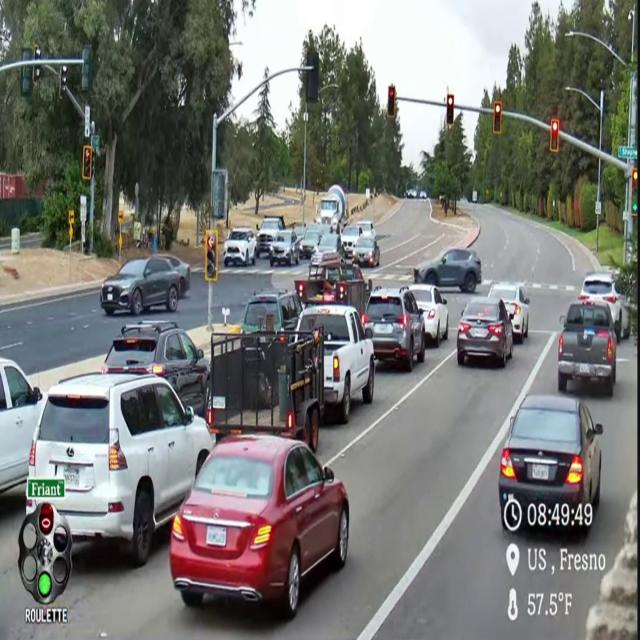car: (26, 374, 215, 566), (169, 435, 349, 619), (499, 395, 602, 532), (102, 321, 210, 415), (0, 358, 43, 493), (362, 287, 426, 371), (100, 256, 180, 316), (457, 297, 513, 367), (579, 272, 631, 340), (414, 248, 481, 293), (242, 290, 302, 333), (489, 282, 529, 343), (409, 285, 448, 346), (223, 227, 256, 266), (160, 255, 190, 297), (269, 230, 299, 267), (312, 232, 344, 261), (352, 236, 380, 266), (300, 225, 322, 258), (341, 225, 362, 252), (357, 221, 376, 238), (293, 225, 306, 240), (407, 190, 416, 199), (420, 191, 427, 199)
traffic signal: (204, 229, 218, 282), (306, 50, 319, 103), (81, 45, 91, 92), (82, 145, 93, 181), (20, 66, 32, 96), (387, 85, 396, 119), (493, 101, 502, 135), (550, 119, 559, 152), (59, 65, 67, 99), (446, 94, 454, 126), (632, 168, 637, 216), (32, 65, 41, 83)
truck: (206, 330, 324, 451), (297, 304, 374, 423), (558, 301, 616, 396), (294, 255, 372, 315), (317, 184, 346, 232), (256, 216, 285, 258)
